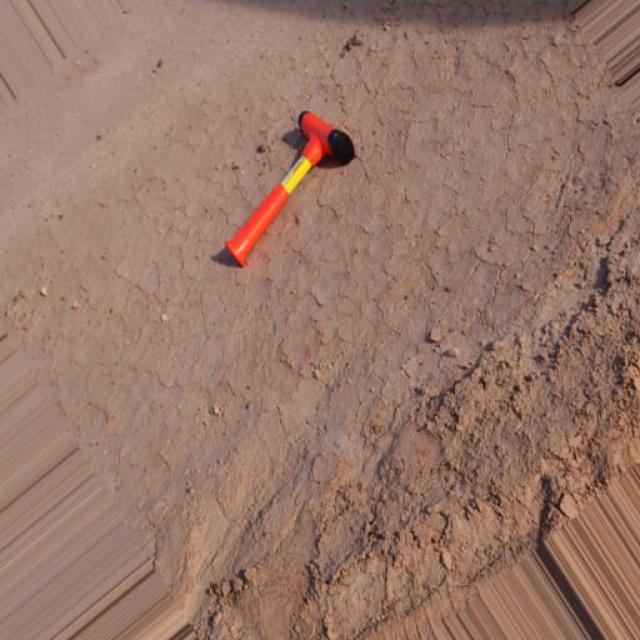mallet: (220, 108, 355, 268)
